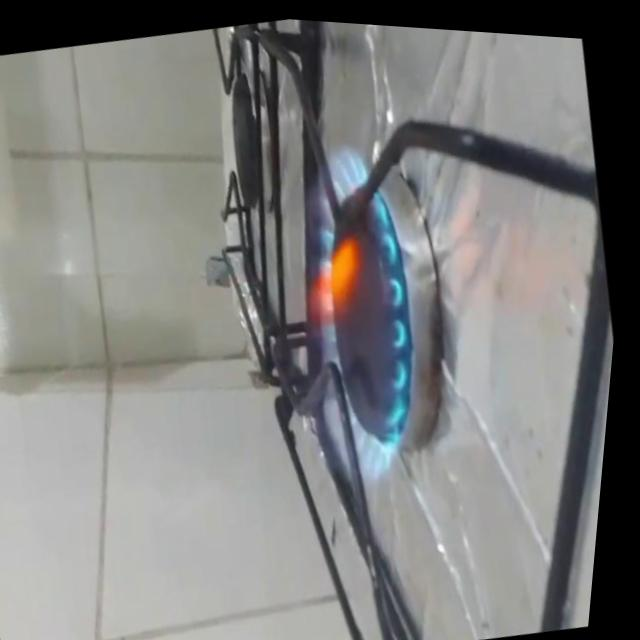Fire: (261, 122, 462, 494)
